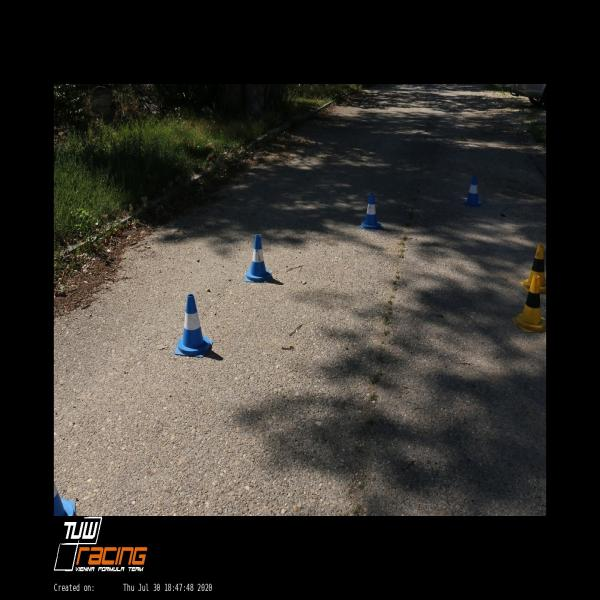blue_cone: (174, 294, 214, 358), (244, 234, 272, 283), (358, 193, 384, 232), (54, 479, 76, 516), (462, 174, 483, 208)
yellow_cone: (512, 276, 546, 332), (521, 244, 546, 292)
